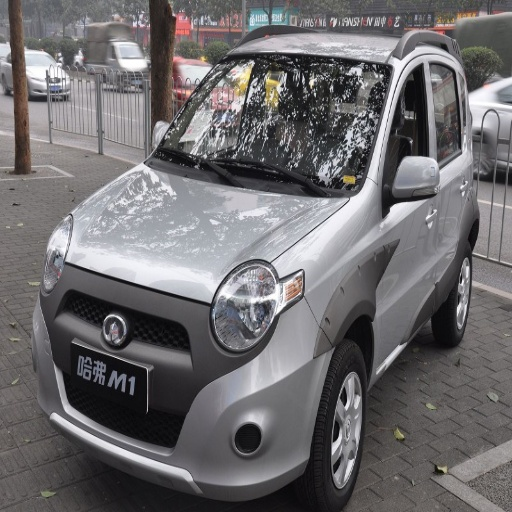front_bumper: (43, 269, 332, 499)
front_glass: (153, 54, 389, 195)
front_left_door: (377, 50, 442, 362)
